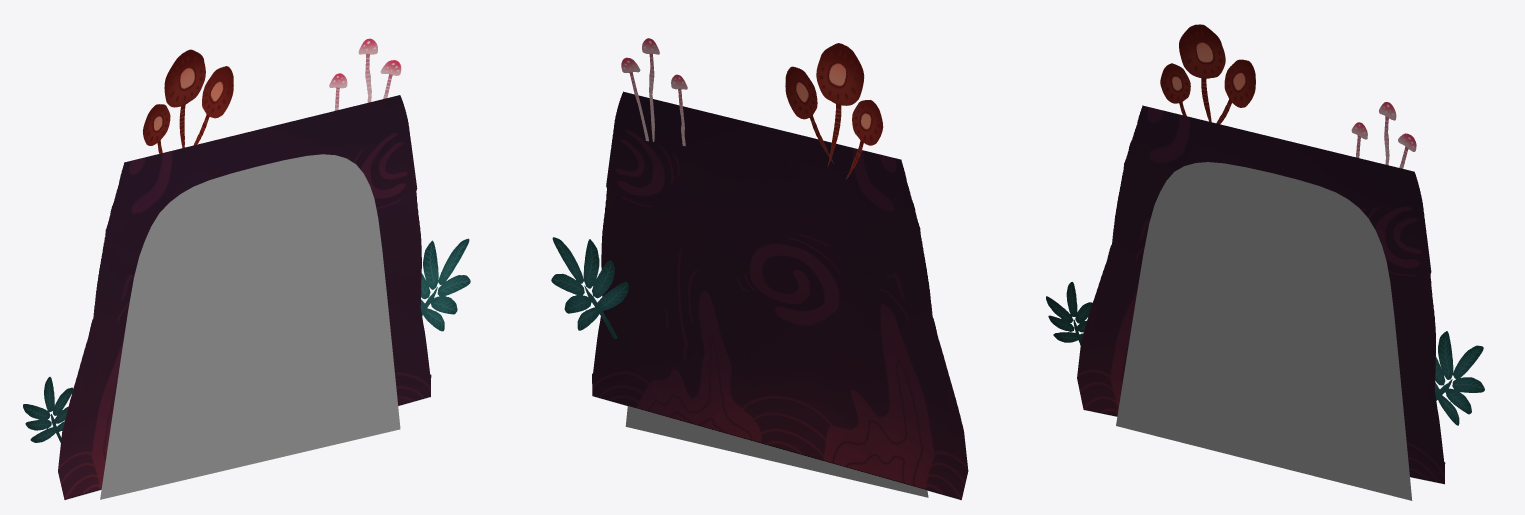
Rendered from shudong.fbx.
3 renders of one model, left to right at view 1: azimuth 30°, elevation 25°; view 2: azimuth 150°, elevation 25°; view 3: azimuth 330°, elevation 25°, orthographic. The views are drawn at different scales.
Visible parts, largest first — view 1: tutu_MD80, tutu_MD38, tutu_MD41, tutu_MD63, tutu_MD62, tutu_MD52, tutu_MD69; view 2: tutu_MD38, tutu_MD80, tutu_MD41, tutu_MD63, tutu_MD69, tutu_MD52; view 3: tutu_MD80, tutu_MD38, tutu_MD41, tutu_MD63, tutu_MD62, tutu_MD52, tutu_MD69.
Part boxes in pixels (x1,y1,x2,y2): tutu_MD80: [100, 154, 400, 499]; tutu_MD38: [58, 95, 431, 499]; tutu_MD41: [143, 49, 205, 153]; tutu_MD63: [420, 238, 470, 331]; tutu_MD62: [23, 377, 73, 442]; tutu_MD52: [193, 66, 233, 145]; tutu_MD69: [329, 38, 401, 110]; tutu_MD38: [592, 91, 968, 500]; tutu_MD80: [625, 406, 928, 497]; tutu_MD41: [816, 43, 883, 179]; tutu_MD63: [551, 237, 628, 338]; tutu_MD69: [621, 38, 687, 146]; tutu_MD52: [785, 66, 834, 163]; tutu_MD80: [1116, 162, 1412, 500]; tutu_MD38: [1077, 105, 1445, 484]; tutu_MD41: [1160, 24, 1225, 122]; tutu_MD63: [1434, 331, 1484, 425]; tutu_MD62: [1046, 282, 1092, 345]; tutu_MD52: [1216, 59, 1255, 124]; tutu_MD69: [1351, 102, 1416, 168].
Size of the model in its own units: 1.99 by 1.78 by 0.0898.
